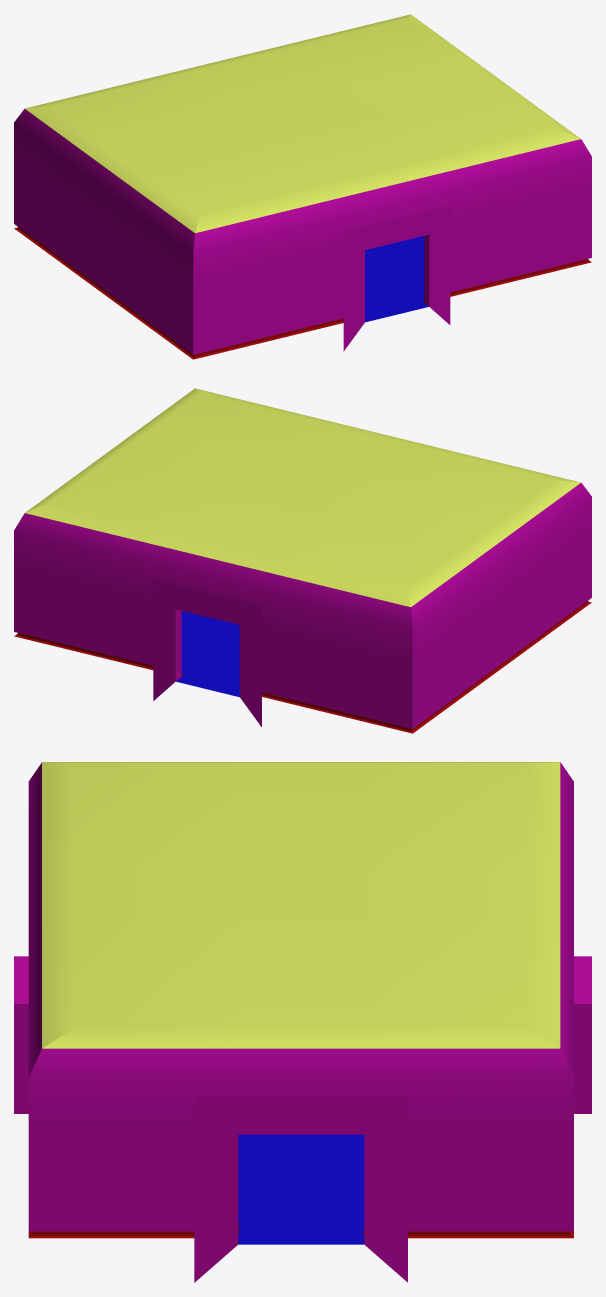
The model's file is Room1.fbx.
3 views of the same model, one above another, from view 1: azimuth 30°, elevation 25°; view 2: azimuth 150°, elevation 25°; view 3: azimuth 270°, elevation 25° (orthographic). The views are drawn at different scales.
Parts seen in each view (by area): view 1: polySurface1; view 2: polySurface1; view 3: polySurface1.
Boxes of the visible parts, <box> form: polySurface1: <box>14,14,591,359</box>; polySurface1: <box>14,388,591,733</box>; polySurface1: <box>14,762,591,1282</box>.
Size of the model in its own units: 3989 by 1436 by 3225.
